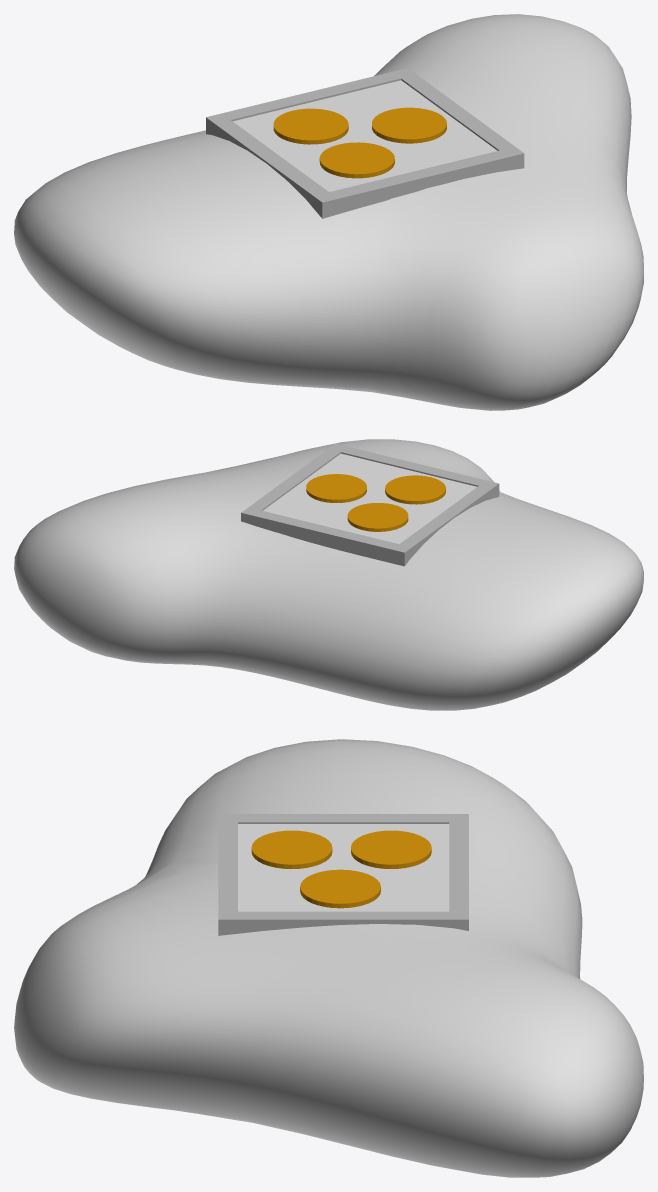
The model's file is Meteor.fbx.
3 renders of one model, top to bottom at view 1: azimuth 30°, elevation 25°; view 2: azimuth 150°, elevation 25°; view 3: azimuth 270°, elevation 25°, orthographic. The views are drawn at different scales.
Parts seen in each view (by area): view 1: Cube, Cube.010, Cube.007, Cylinder.001, Cylinder, Cylinder.002; view 2: Cube, Cube.010, Cube.007, Cylinder, Cylinder.001, Cylinder.002; view 3: Cube, Cube.007, Cube.010, Cylinder, Cylinder.002, Cylinder.001.
Boxes of the visible parts, x1,y1,x2,y2 form: Cube: (14,14,643,410); Cube.010: (206,68,524,218); Cube.007: (233,80,497,191); Cylinder.001: (273,108,348,144); Cylinder: (319,142,394,178); Cylinder.002: (372,107,446,143); Cube: (14,439,643,710); Cube.010: (241,443,499,566); Cube.007: (263,453,476,543); Cylinder: (385,475,445,504); Cylinder.001: (347,503,408,531); Cylinder.002: (306,474,366,502); Cube: (14,739,643,1177); Cube.007: (238,824,449,911); Cube.010: (218,814,468,935); Cylinder: (251,830,332,868); Cylinder.002: (300,869,380,908); Cylinder.001: (351,830,431,868).
Bounding box in the file's own units: 6.36 × 4.98 × 1.89.
